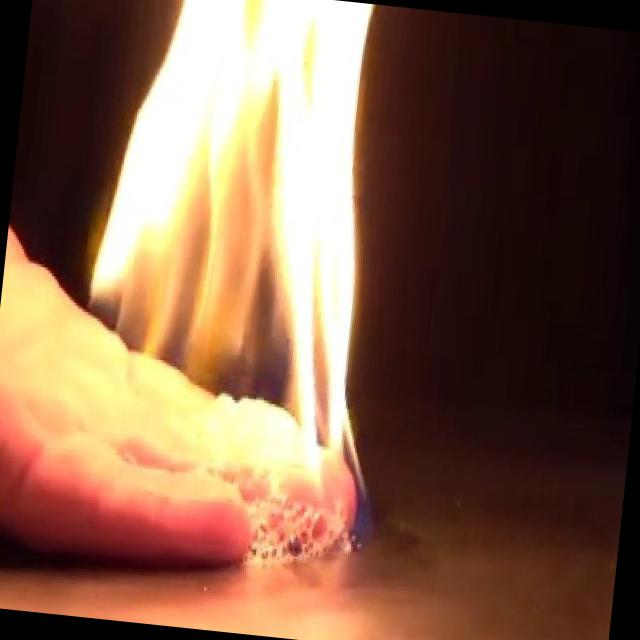Fire: (56, 0, 408, 541)
